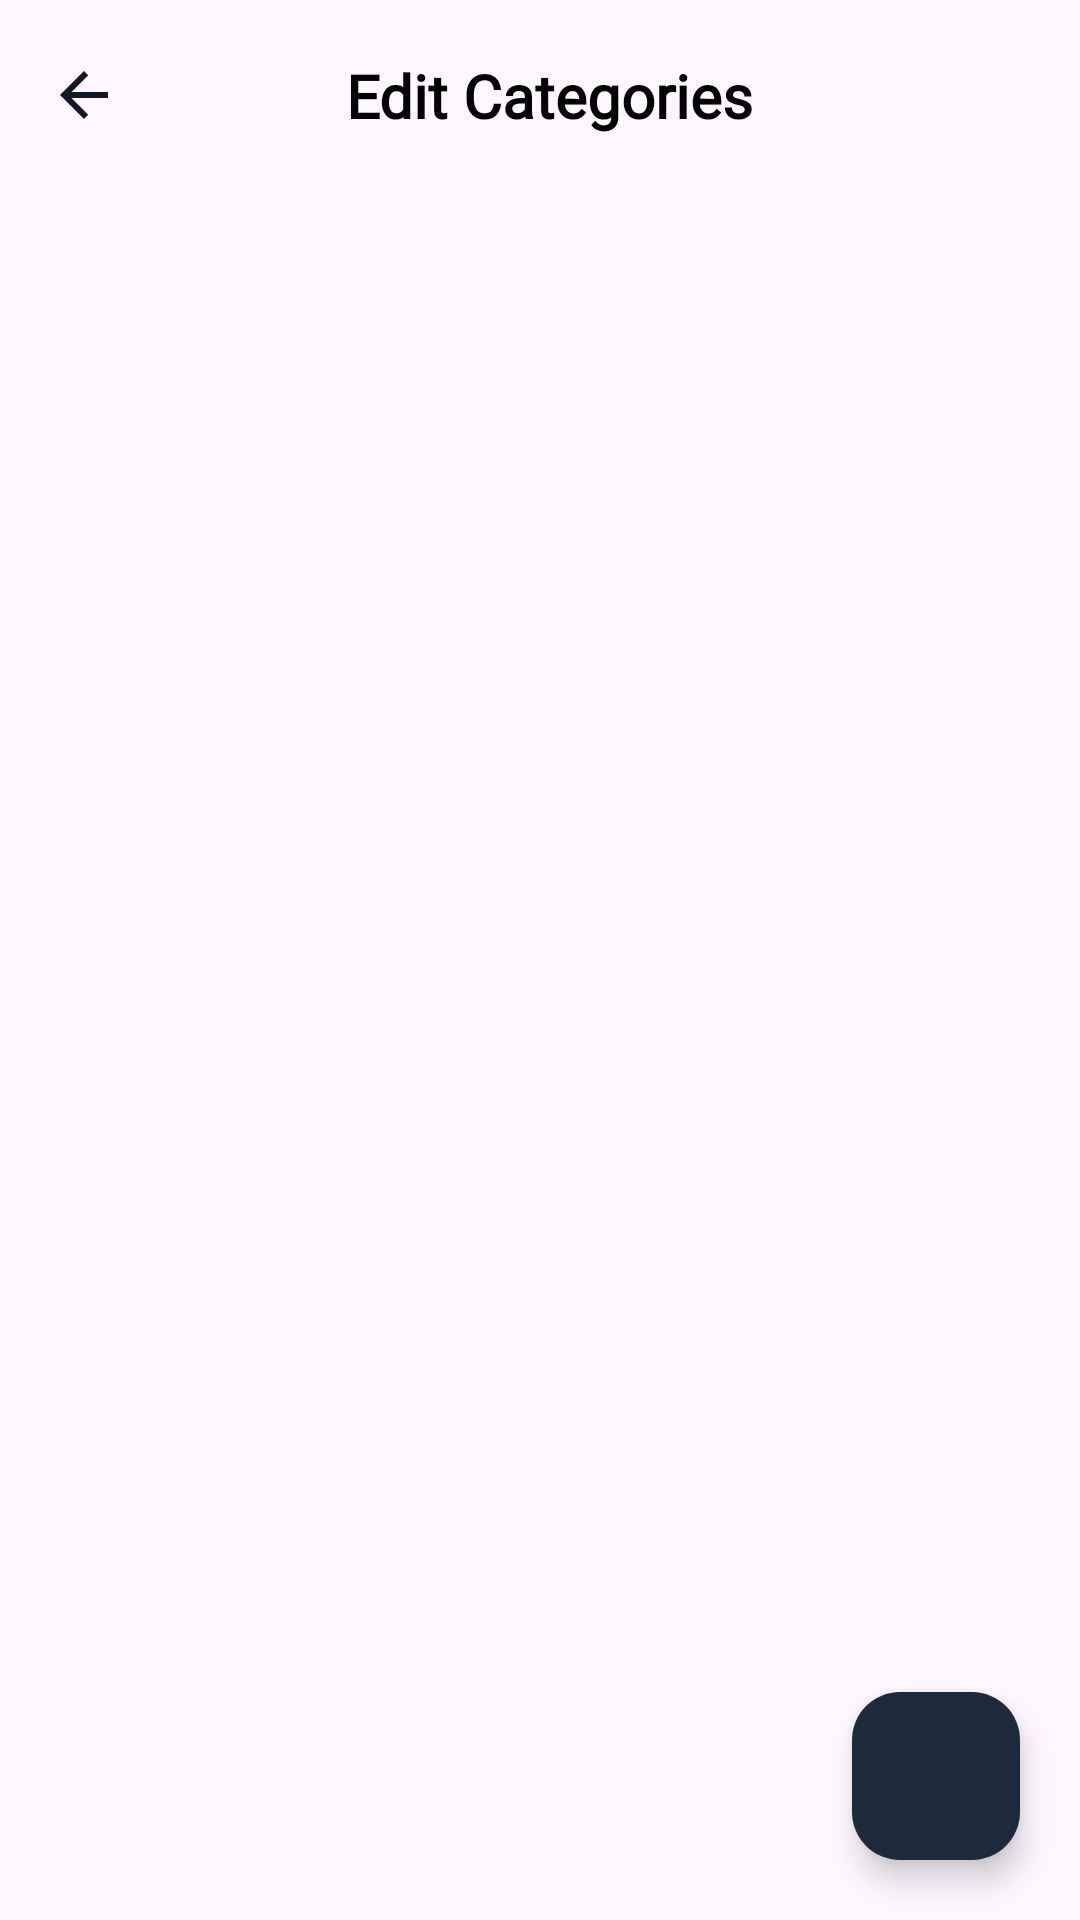

Locate icon controls on the screen. Image size 1080 x 1920, boxes as {"left": x1, "top": y1, "right": x2, "bottom": y2}.
arrow back: {"left": 60, "top": 71, "right": 108, "bottom": 119}
